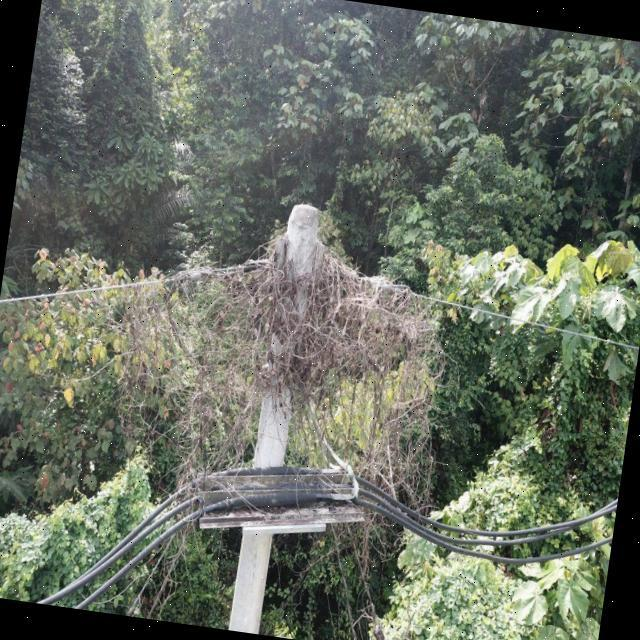critical vegetation: (129, 208, 463, 426)
